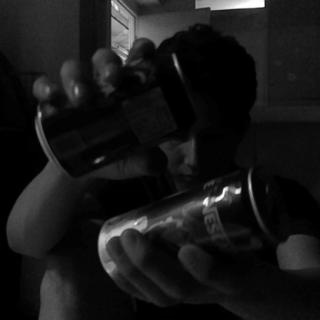alumunium_can: (99, 164, 294, 284), (37, 48, 201, 178)
